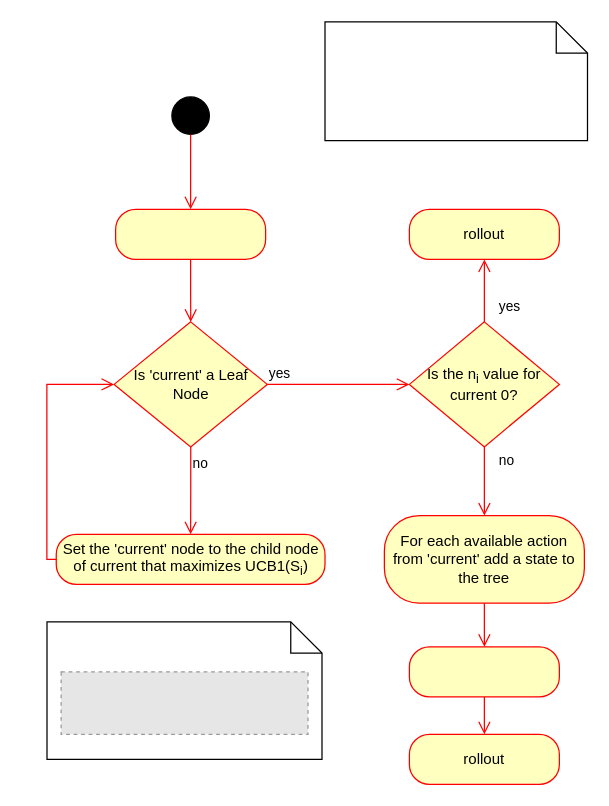
Image size: 609x806. Some labels were removed from this diagram. Grey dashed boxes stand in for pictures. The centre of each missing label's shape, as x and y in pixels:
"Adapted from John Levine's Video: Monte Carlo Tree Search" belongs at (456,81).
"Current Node = S 0" belongs at (190,233).
"Set 'current' to the first new child node" belongs at (483,671).
